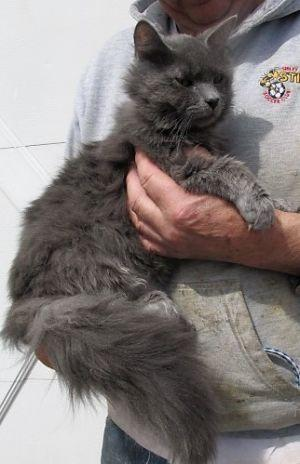rblue: (117, 10, 244, 142)
